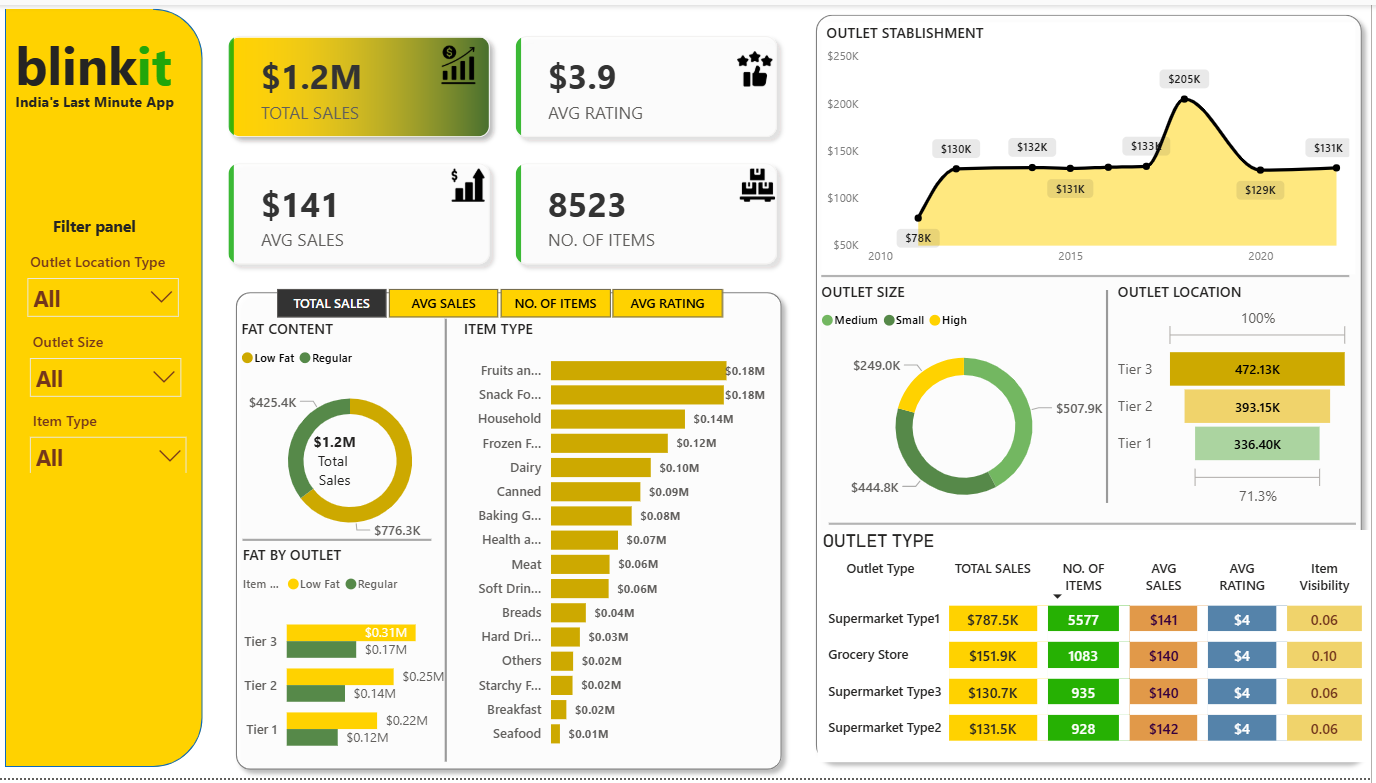

The page's visual inventory and layout, read from the dashboard file:
{"tool":"powerbi","page":{"name":"Page 1","canvas":[1280,720],"ordinal":0},"visuals":[{"type":"cardVisual","fields":{"Data":["BlinkIT Grocery Data.TOTAL SALES","BlinkIT Grocery Data.AVG RATING","BlinkIT Grocery Data.AVG SALES","BlinkIT Grocery Data.NO. OF ITEMS"]},"box":[187.8,0,568.9,270.3],"z":0},{"type":"shape","box":[9.5,4.1,183.8,705.4],"z":2000},{"type":"textbox","box":[13.5,17.6,160.8,75.7],"z":3000},{"type":"textbox","box":[13.5,75.7,183.8,28.4],"z":4000},{"type":"image","box":[404.8,37.1,52.7,37.1],"z":6000},{"type":"image","box":[687,42.8,39.9,32.8],"z":7000},{"type":"image","box":[687,151.1,44.2,32.8],"z":8000},{"type":"image","box":[421.9,151.1,35.6,32.8],"z":9000},{"type":"shape","box":[214.9,258.1,525.7,462.2],"z":10000},{"type":"donutChart","title":"FAT CONTENT","fields":{"Y":["BlinkIT Grocery Data.TOTAL SALES"],"Category":["BlinkIT Grocery Data.Item Fat Content"]},"box":[224.3,291.9,212.2,218.9],"z":11000},{"type":"slicer","fields":{"Values":["Metrices 2.Metrices"]},"box":[236,256.8,464.7,40.4],"z":12000},{"type":"textbox","box":[286.1,391.3,59.9,69.7],"z":13000},{"type":"clusteredBarChart","title":"FAT BY OUTLET ","fields":{"Y":["BlinkIT Grocery Data.TOTAL SALES"],"Category":["BlinkIT Grocery Data.Outlet Location Type"],"Series":["BlinkIT Grocery Data.Item Fat Content"]},"box":[225.7,502.7,210.8,209.5],"z":14000},{"type":"shape","box":[229.7,486.5,175.7,23],"z":15000},{"type":"shape","box":[404.8,292.3,29.3,412.1],"z":16000},{"type":"barChart","title":"ITEM TYPE","fields":{"Y":["BlinkIT Grocery Data.TOTAL SALES"],"Category":["BlinkIT Grocery Data.Item Type"]},"box":[431.1,291.9,290.5,409.5],"z":17000},{"type":"shape","box":[754.5,0,525.8,712.9],"z":18000},{"type":"lineChart","title":"OUTLET STABLISHMENT","fields":{"Y":["BlinkIT Grocery Data.TOTAL SALES"],"Category":["BlinkIT Grocery Data.Outlet Establishment Year"]},"box":[769.2,15.9,496.5,234.8],"z":19000},{"type":"shape","box":[769.2,102.7,491.6,299.6],"z":20000},{"type":"donutChart","title":"OUTLET SIZE","fields":{"Y":["BlinkIT Grocery Data.TOTAL SALES"],"Category":["BlinkIT Grocery Data.Outlet Size"]},"box":[764.3,256.8,275.1,225],"z":21000},{"type":"shape","box":[1019.8,265.4,29.3,198.1],"z":22000},{"type":"funnel","title":"OUTLET LOCATION","fields":{"Y":["Sum(BlinkIT Grocery Data.Sales)"],"Category":["BlinkIT Grocery Data.Outlet Location Type"]},"box":[1039.4,256.8,226.2,215.2],"z":23000},{"type":"shape","box":[775.7,332.4,490.5,300],"z":24000},{"type":"pivotTable","title":"OUTLET TYPE","fields":{"Rows":["BlinkIT Grocery Data.Outlet Type"],"Values":["BlinkIT Grocery Data.TOTAL SALES","BlinkIT Grocery Data.NO. OF ITEMS","BlinkIT Grocery Data.AVG SALES","BlinkIT Grocery Data.AVG RATING","Avg(BlinkIT Grocery Data.Item Visibility)"]},"box":[764.9,487.8,514.9,216.2],"z":25000},{"type":"slicer","fields":{"Values":["BlinkIT Grocery Data.Outlet Location Type"]},"box":[20.3,224.3,160.8,67.6],"z":26000},{"type":"slicer","fields":{"Values":["BlinkIT Grocery Data.Outlet Size"]},"box":[21.6,298.6,160.8,67.6],"z":27000},{"type":"slicer","fields":{"Values":["BlinkIT Grocery Data.Item Type"]},"box":[21.6,371.6,166.2,63.5],"z":28000},{"type":"textbox","box":[1.4,190.5,186.5,33.8],"z":29000}]}

Visuals, with their boxes in screenshot pixels (x1, y1, x2, y2), scaled from the page's 1280x720 canvas onto the 1376x783 screenshot:
cardVisual - BlinkIT Grocery Data.TOTAL SALES x BlinkIT Grocery Data.AVG RATING: crop(202, 0, 813, 294)
shape: crop(10, 4, 208, 772)
textbox: crop(15, 19, 187, 101)
textbox: crop(15, 82, 212, 113)
image: crop(435, 40, 492, 81)
image: crop(739, 47, 781, 82)
image: crop(739, 164, 786, 200)
image: crop(454, 164, 492, 200)
shape: crop(231, 281, 796, 782)
"FAT CONTENT" donutChart: crop(241, 317, 469, 555)
slicer - Metrices 2.Metrices: crop(254, 279, 753, 323)
textbox: crop(308, 426, 372, 501)
"FAT BY OUTLET " clusteredBarChart: crop(243, 547, 469, 775)
shape: crop(247, 529, 436, 554)
shape: crop(435, 318, 467, 766)
"ITEM TYPE" barChart: crop(463, 317, 776, 763)
shape: crop(811, 0, 1375, 775)
"OUTLET STABLISHMENT" lineChart: crop(827, 17, 1361, 273)
shape: crop(827, 112, 1355, 438)
"OUTLET SIZE" donutChart: crop(822, 279, 1117, 524)
shape: crop(1096, 289, 1128, 504)
"OUTLET LOCATION" funnel: crop(1117, 279, 1361, 513)
shape: crop(834, 361, 1361, 688)
"OUTLET TYPE" pivotTable: crop(822, 530, 1375, 766)
slicer - BlinkIT Grocery Data.Outlet Location Type: crop(22, 244, 195, 317)
slicer - BlinkIT Grocery Data.Outlet Size: crop(23, 325, 196, 398)
slicer - BlinkIT Grocery Data.Item Type: crop(23, 404, 202, 473)
textbox: crop(2, 207, 202, 244)
